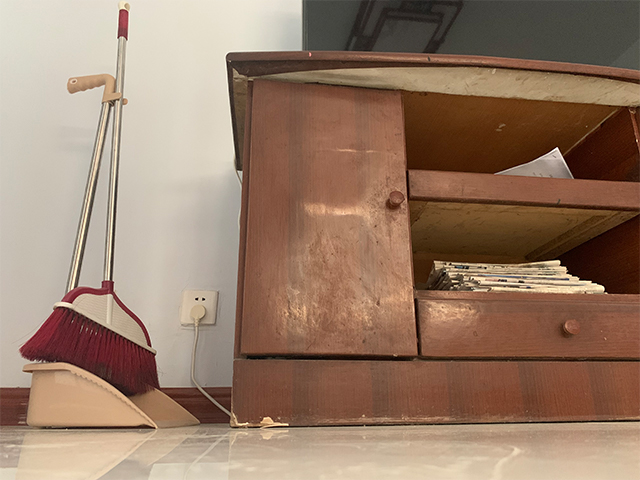cabinet: (219, 48, 639, 429)
wire: (188, 304, 231, 416)
